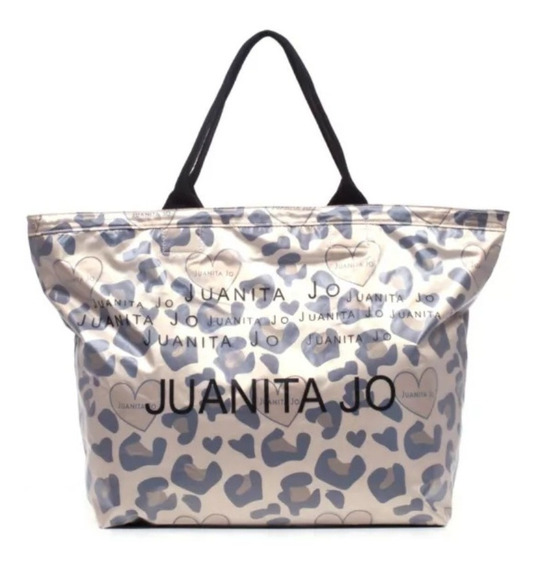cartera: (26, 31, 510, 527)
